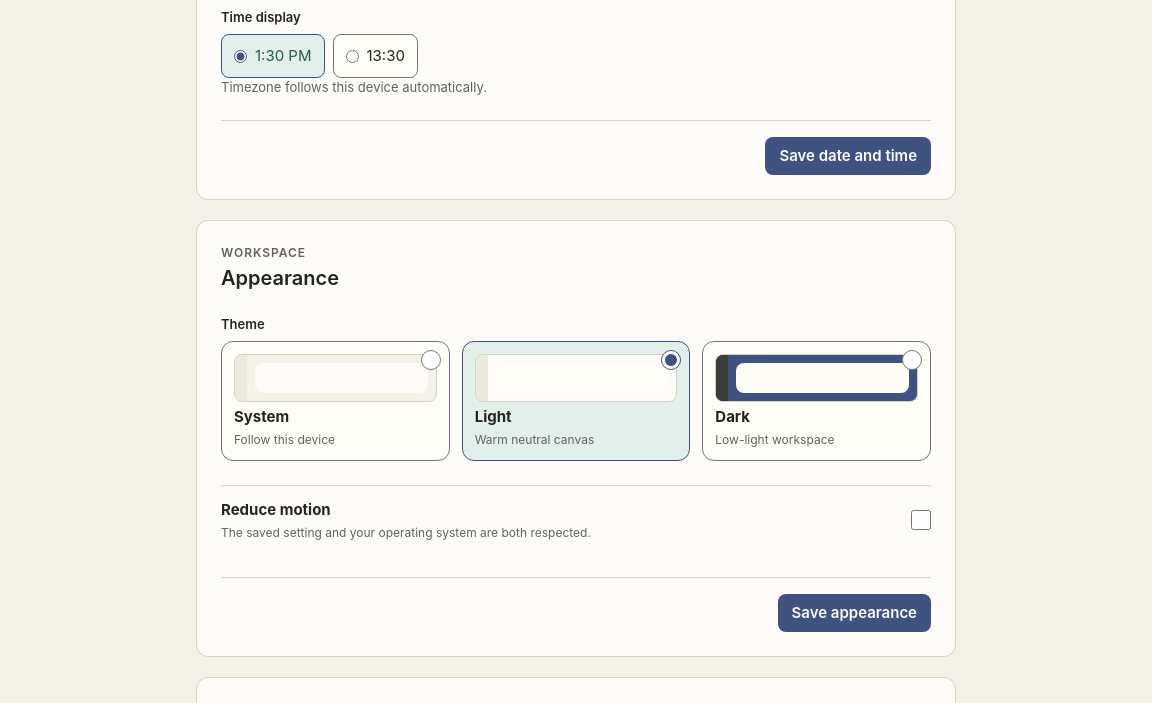
Test: SettingsScreen › saves each card with an optimistic version and preserves edits in the other card
(page scrolled)
Click the radio button labelled "Dark Low-light workspace". click: (912,360)
box: [902, 350, 922, 370]
(page scrolled)
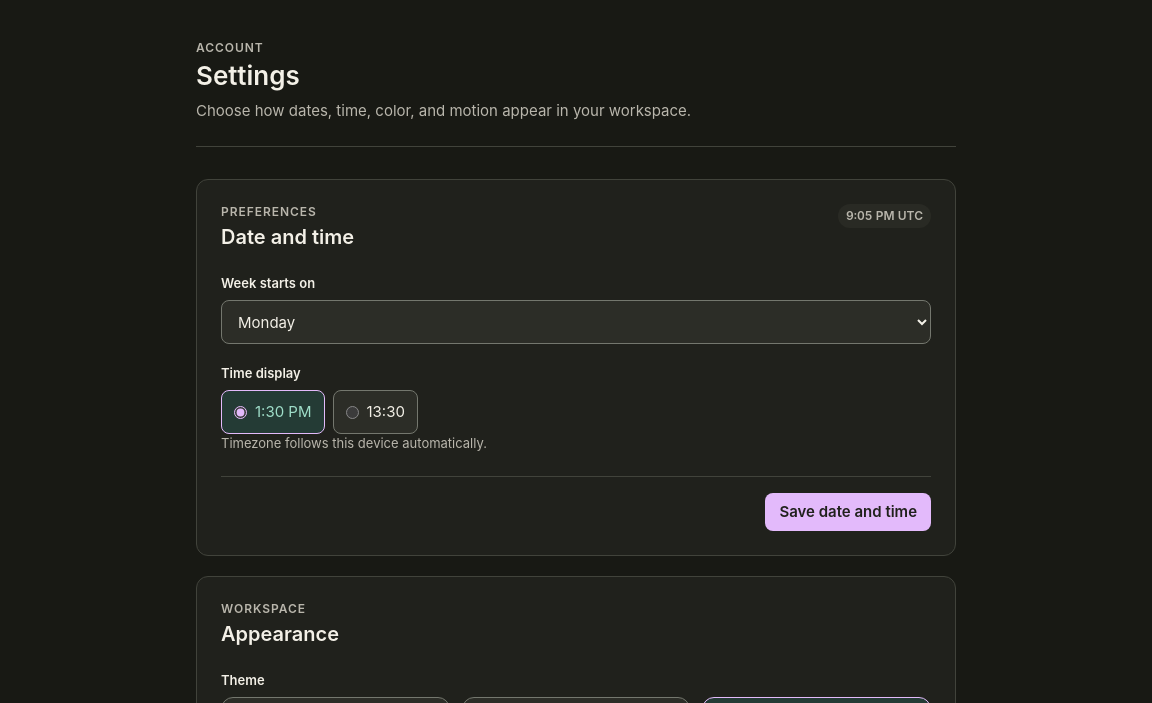
Select "Sunday" in the dropdown labelled "Week starts on". click: (576,322)
box: [221, 300, 931, 344]
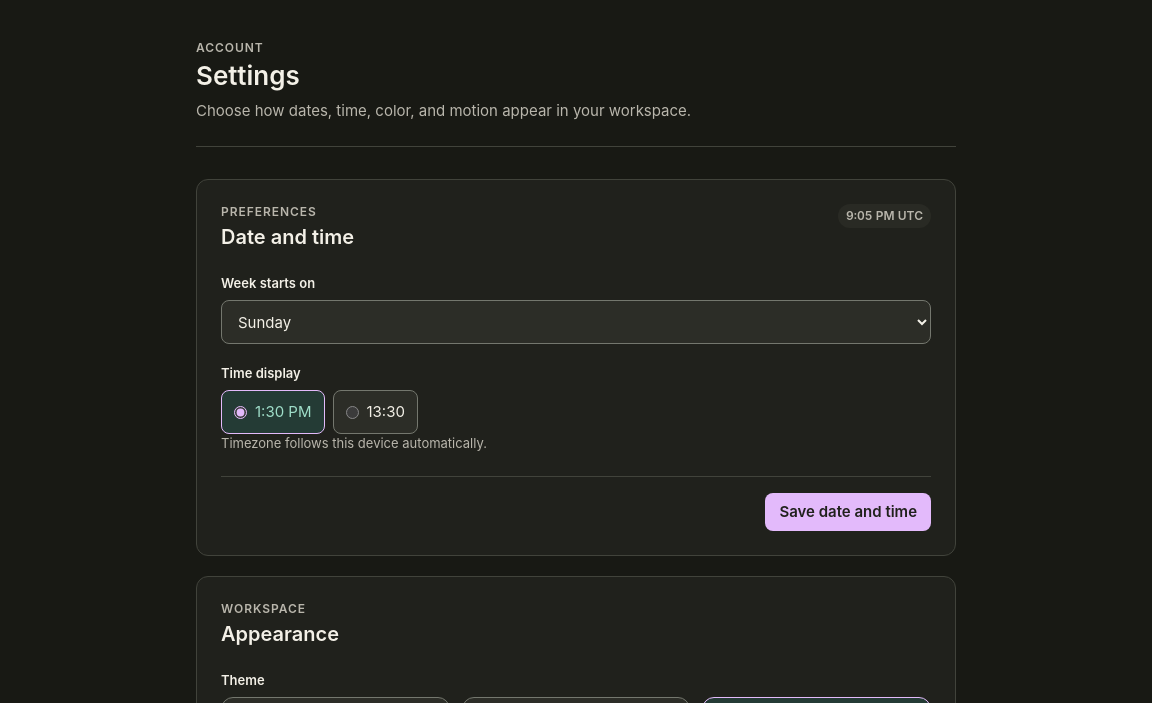
Click the radio button labelled "13:30". click: (352,412)
box: [346, 406, 358, 418]
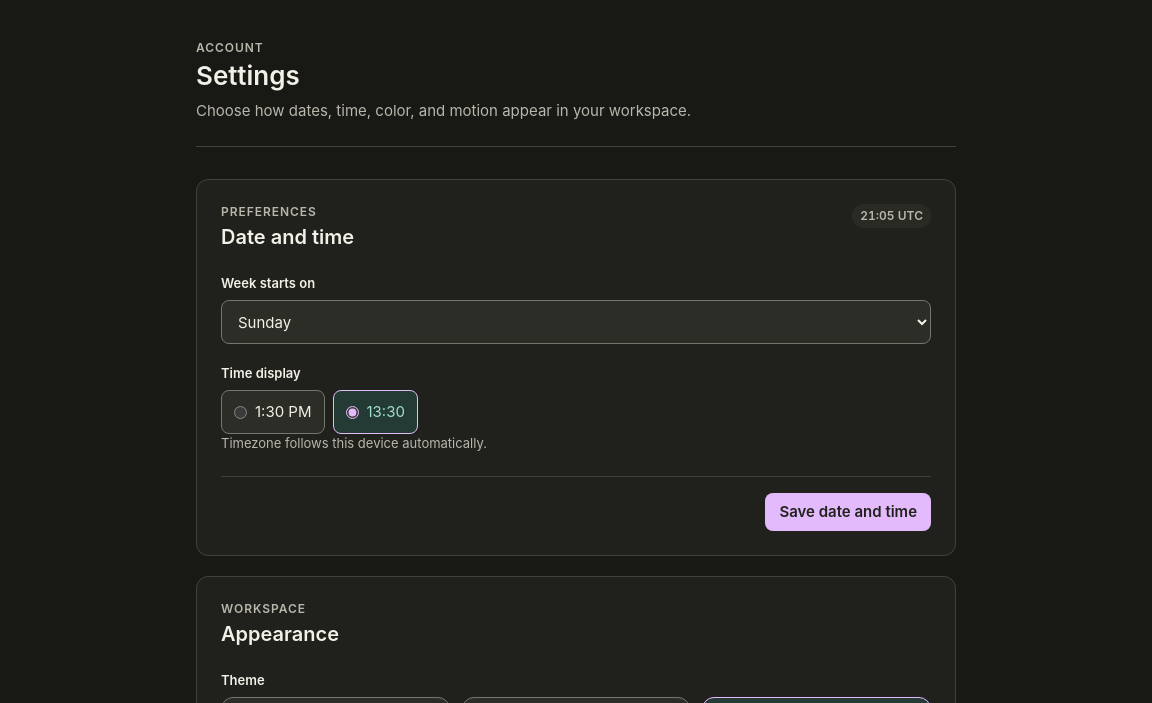
Click the button "Save date and time". click: (848,512)
box: [765, 493, 931, 531]
(page scrolled)
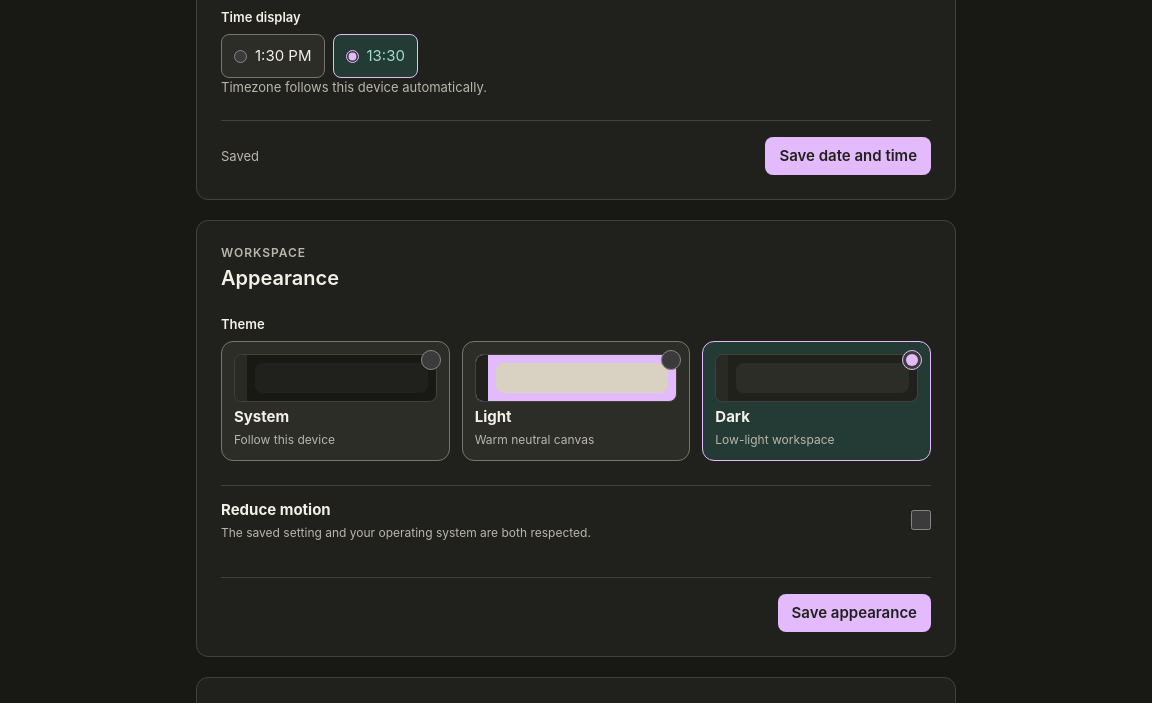
Expected: the radio button labelled "Dark Low-light workspace" is checked, [902, 350, 922, 370]
Expected: the text "Saved" is shown, [221, 148, 259, 164]
